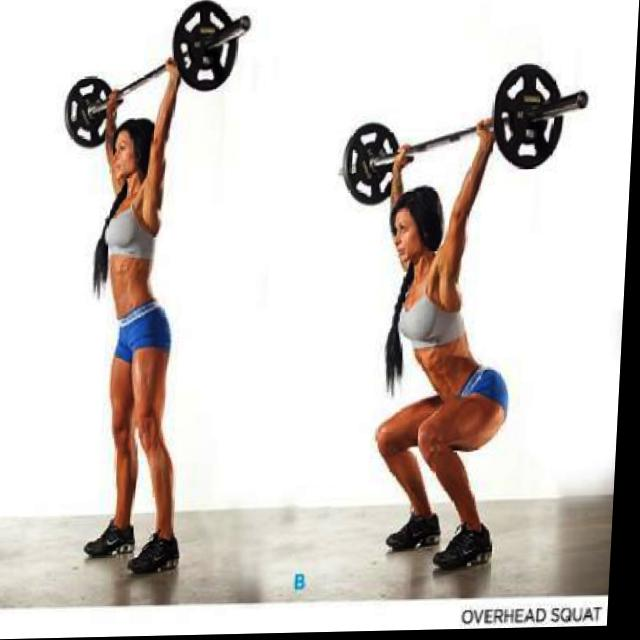barbell: (492, 62, 597, 175), (168, 1, 256, 100)
